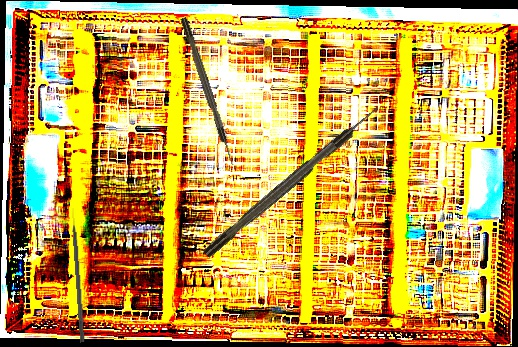Hook Surgical: (201, 103, 383, 259), (180, 16, 236, 167), (70, 207, 87, 343)
